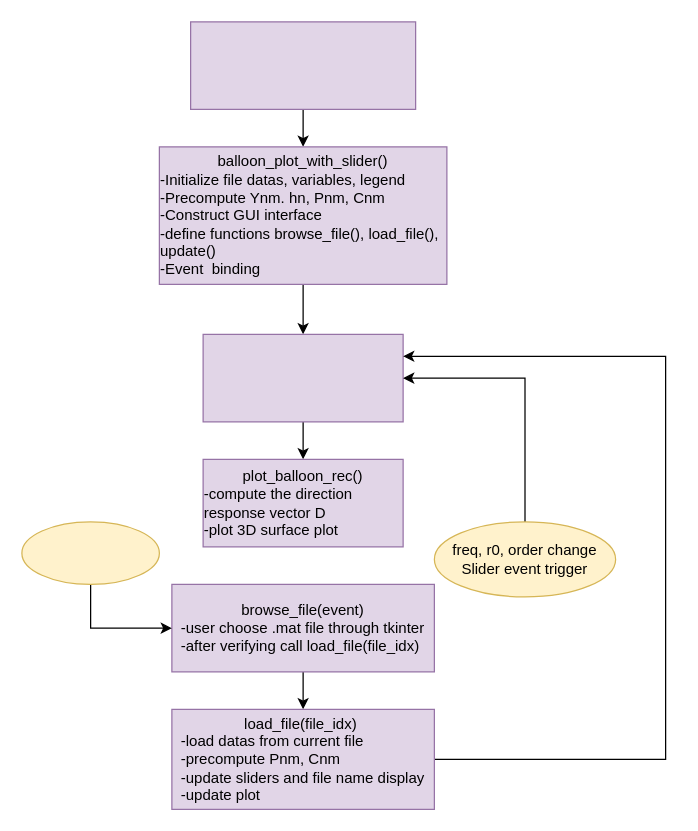
The diagram is 698 pixels wide and 831 high, and some of its shapes have lost their labels. The shapes that lost their labels are listed below. From the top down, each one's box as (x1, y1, x2, y2) in pixels, then its label:
(189, 21, 416, 109): _main_ -Start the program -call balloon_plot_with_slider()
(202, 333, 403, 422): update(val) -compute freq_idx -Recalculate the new Pnm -call plot_balloon_rec()
(21, 521, 159, 584): Click button “Browse...”
